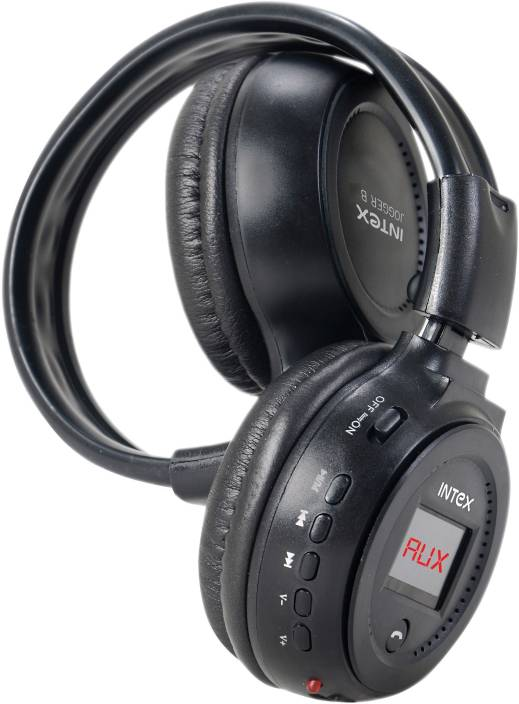Headphone: (5, 2, 517, 704)
